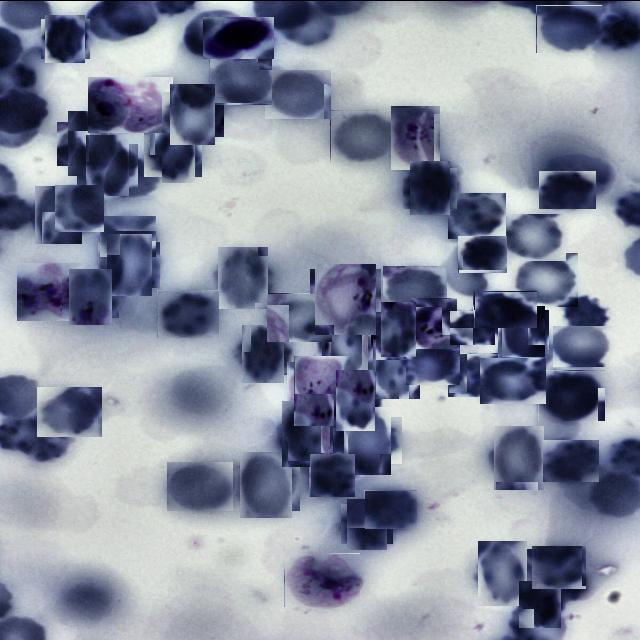leukocyte: (203, 16, 274, 58)
red blood cell: (512, 252, 578, 306), (237, 454, 296, 514), (330, 109, 397, 161), (167, 461, 237, 510), (538, 369, 605, 420), (474, 544, 532, 602), (264, 68, 331, 118), (338, 411, 396, 468), (490, 429, 548, 486), (37, 386, 102, 436), (278, 404, 334, 462), (266, 292, 332, 341), (215, 249, 272, 305), (536, 4, 602, 52), (209, 55, 272, 104), (480, 357, 546, 403), (502, 213, 566, 260), (382, 264, 447, 310), (157, 289, 219, 337), (369, 340, 424, 394), (62, 116, 117, 170), (318, 320, 372, 374), (102, 237, 156, 291), (99, 154, 162, 200), (167, 86, 220, 140), (32, 188, 84, 241), (82, 139, 134, 191), (448, 192, 506, 238), (148, 128, 198, 180), (238, 328, 289, 378), (66, 270, 116, 320), (330, 375, 380, 425), (406, 339, 461, 384), (531, 544, 586, 588), (553, 325, 612, 366), (473, 290, 538, 327), (99, 214, 156, 256), (543, 439, 599, 481), (406, 164, 454, 212), (55, 184, 104, 231), (448, 352, 498, 396), (539, 170, 596, 208), (500, 308, 547, 354), (344, 500, 390, 546), (560, 293, 610, 335), (376, 306, 421, 352), (518, 580, 563, 626), (364, 489, 417, 528), (310, 452, 356, 496), (44, 16, 88, 60), (457, 234, 507, 272), (450, 309, 496, 344)
trophozoite: (88, 76, 173, 132), (312, 266, 378, 332), (284, 552, 360, 606), (290, 358, 354, 422), (17, 262, 85, 320), (390, 104, 440, 169), (410, 296, 457, 348)
